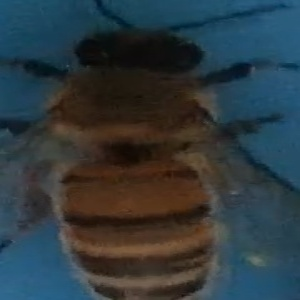bee: (10, 1, 290, 300)
